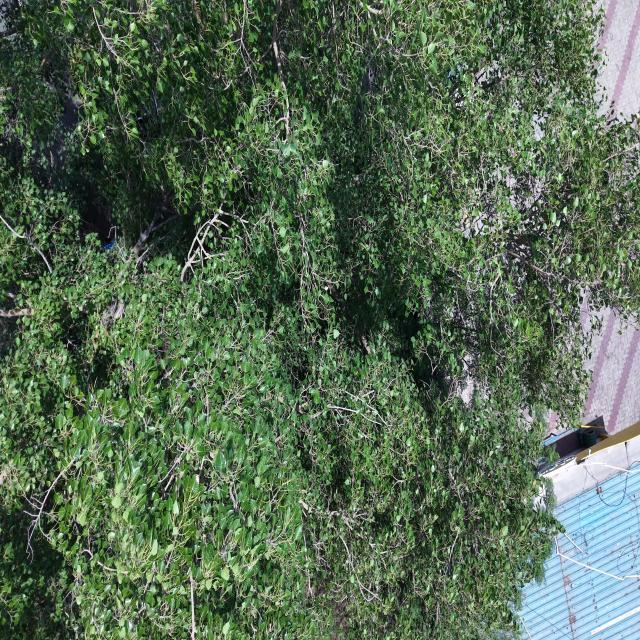DRY_AREA: (583, 310, 639, 433)
ROOFTOP_BUILDING: (519, 424, 639, 639)
VEGETATION_TREE: (0, 0, 639, 639)
